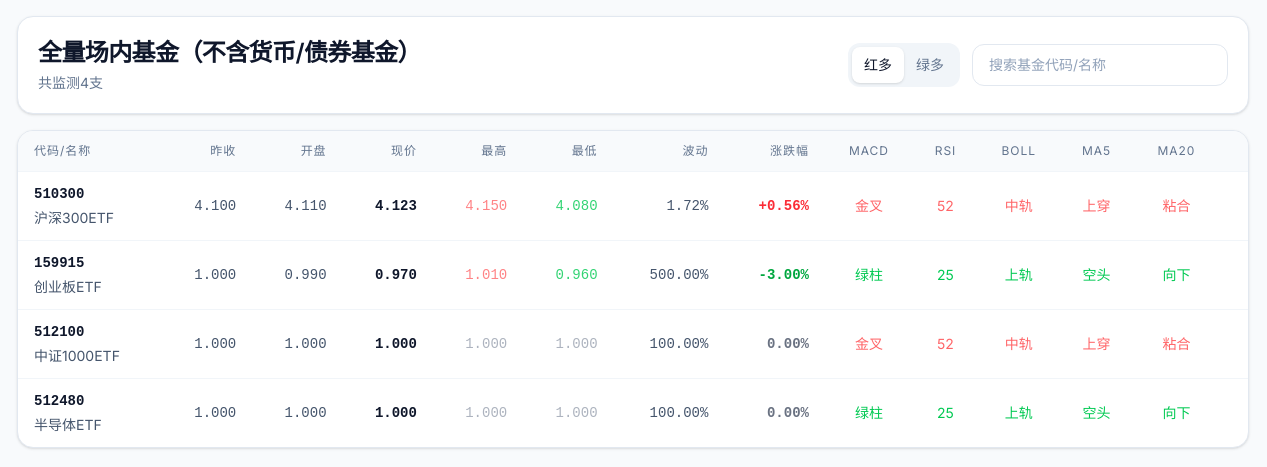
Test: FundList › 搜索创业板后只显示匹配基金
Type "创业板" into the field with test id "fund-search".
click(1100, 65); type("创业板")  # box [972,44,1228,86]
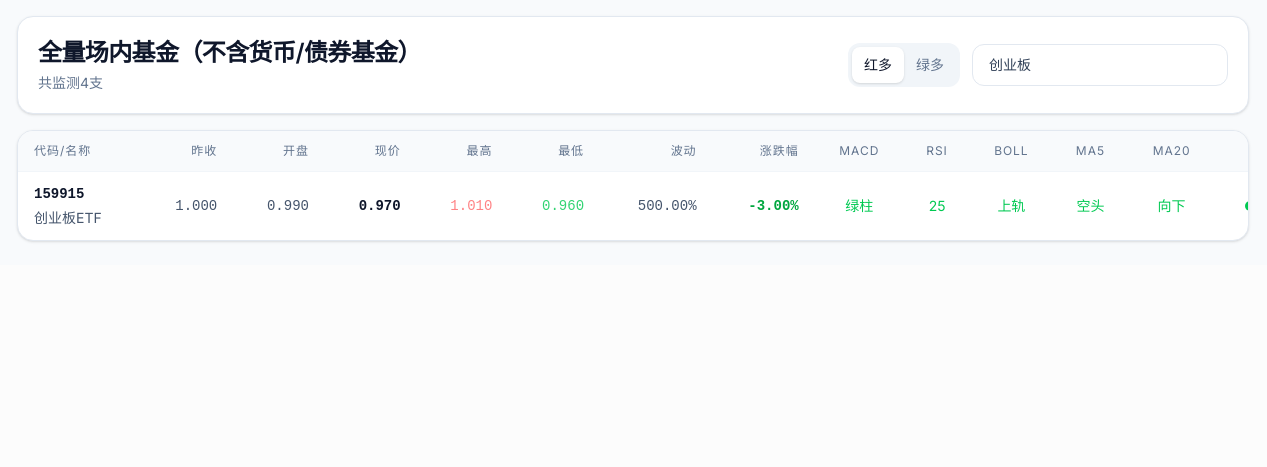
Check: the text "创业板ETF" is shown, box [34,208,102,228]
Check: the text "沪深300ETF" is gone
